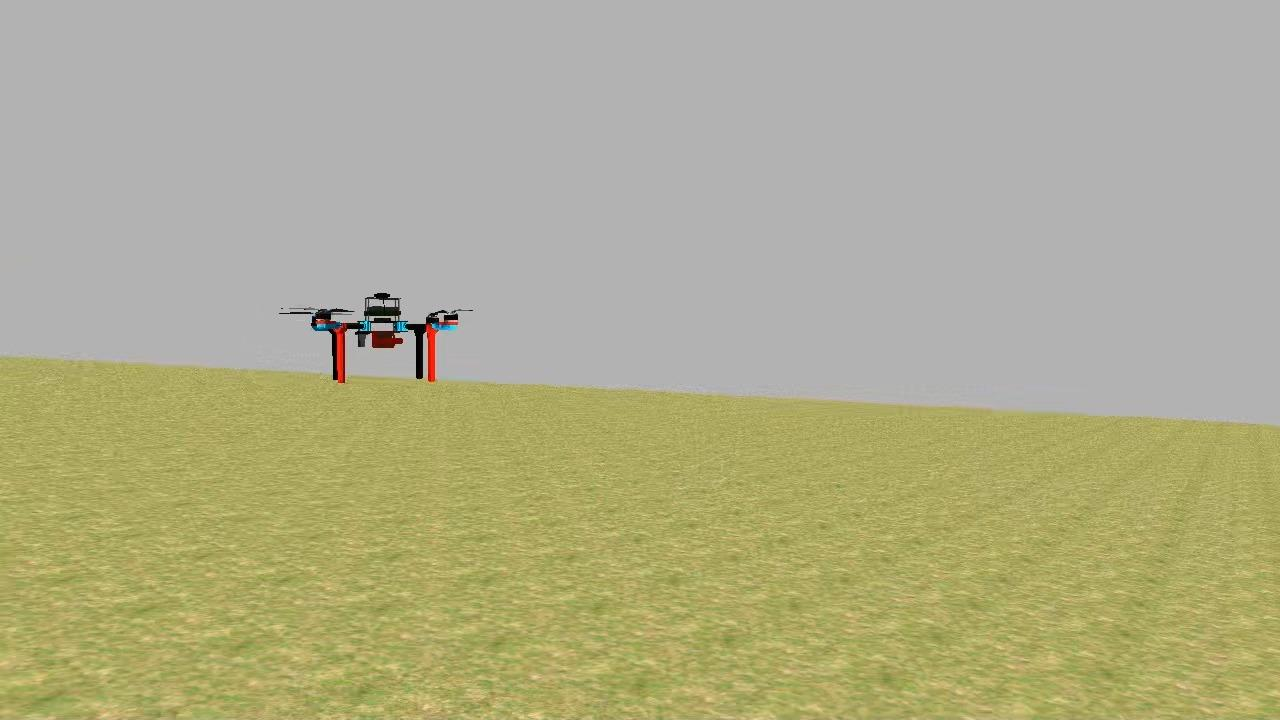UAV: (302, 286, 468, 392)
